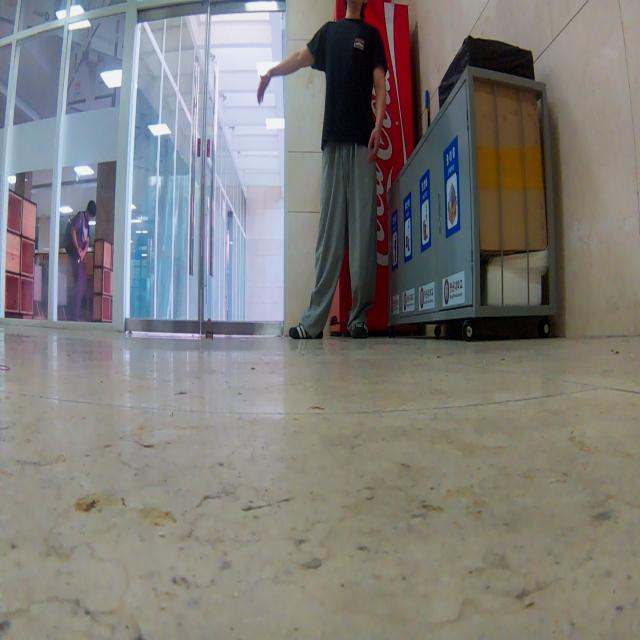target: (205, 316, 213, 342)
